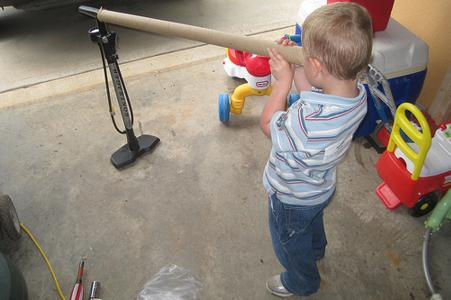person: (260, 5, 371, 297)
